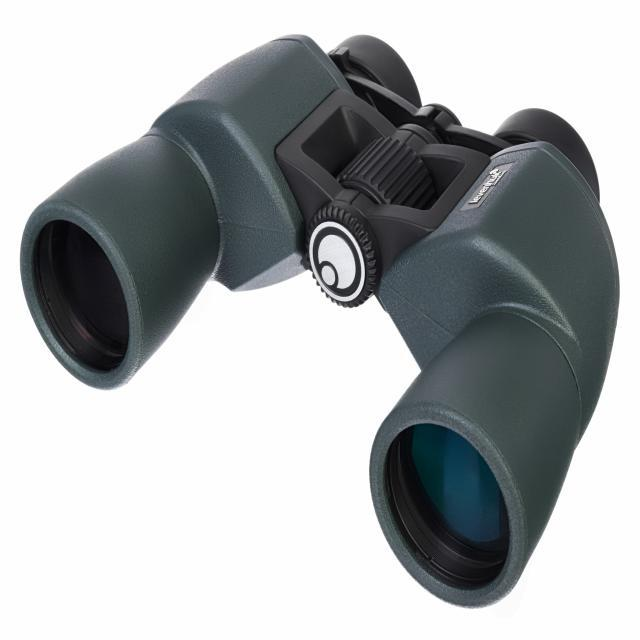Binocular: (15, 25, 620, 614)
